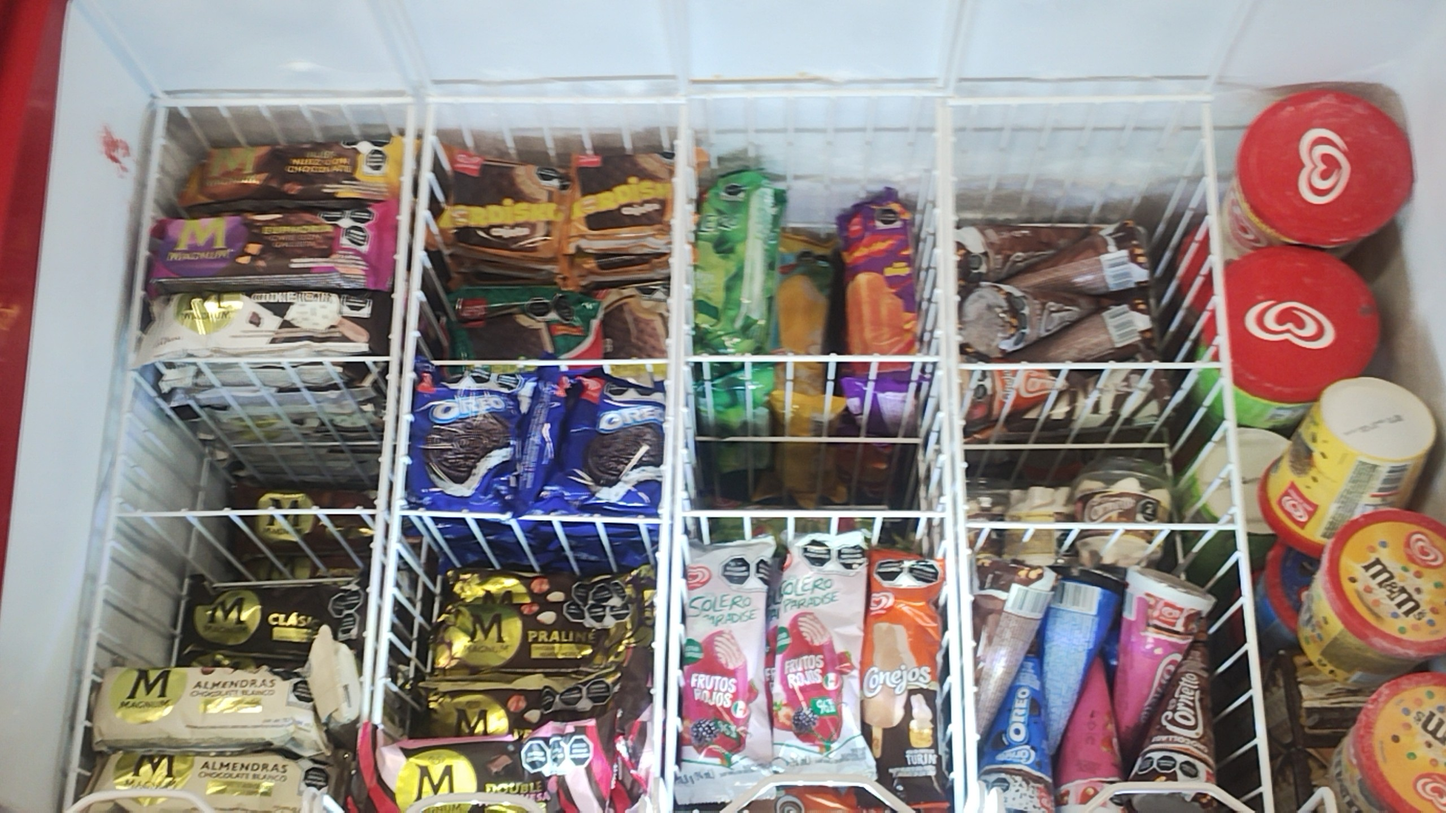Magnum clasica: (177, 574, 365, 662)
Oreo Mordizco: (396, 365, 520, 518), (563, 386, 674, 510), (524, 367, 567, 510)
